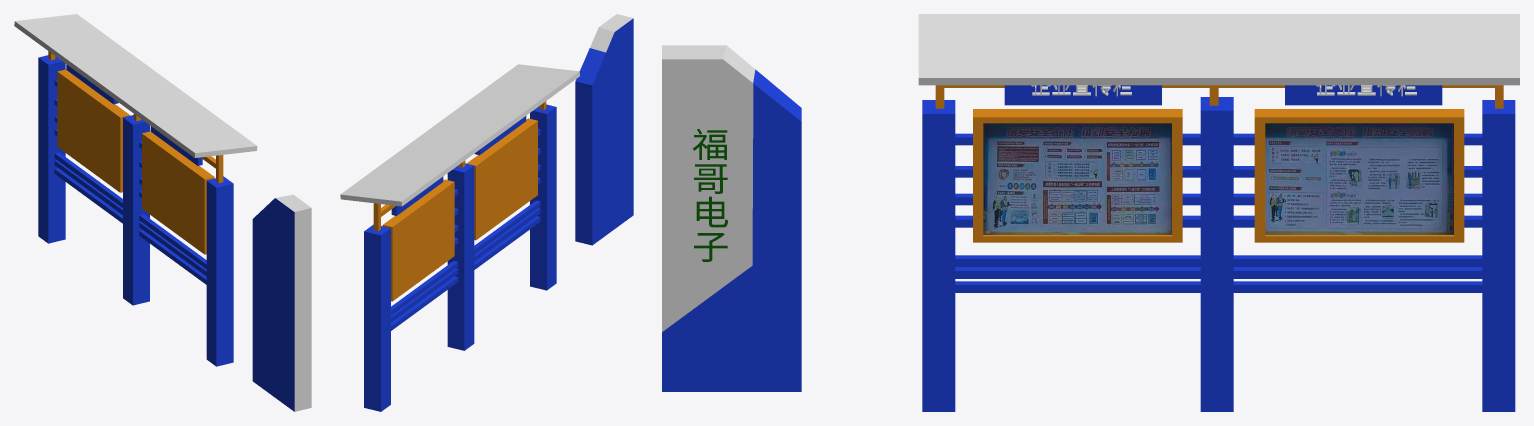
Rendered from 佈告欄.fbx.
3 views of the same model, side by side, from view 1: azimuth 30°, elevation 25°; view 2: azimuth 150°, elevation 25°; view 3: azimuth 270°, elevation 25° (orthographic). The views are drawn at different scales.
Parts seen in each view (by area): view 1: 立方体.445, 立方体.439, 立方体.443, 立方体.442, 立方体.424, 立方体.427, 立方体.425, 立方体.426, 立方体.430, 立方体.428, 立方体.429, 立方体.440 (+1 smaller); view 2: 立方体.445, 立方体.439, 立方体.443, 立方体.442, 立方体.427, 立方体.425, 立方体.424, 立方体.426, 立方体.430, 立方体.428, 立方体.429, 立方体.441 (+1 smaller); view 3: 立方体.445, 立方体.439, 立方体.443, 立方体.442, 立方体.424, 立方体.427, 立方体.426, 立方体.425, 立方体.428, 立方体.429, 立方体.430, 立方体.440 (+6 smaller).
Boxes of the visible parts, x1,y1,x2,y2 form: 立方体.445: (252,194,311,411); 立方体.439: (14,14,257,157); 立方体.443: (57,69,130,192); 立方体.442: (142,131,214,254); 立方体.424: (206,176,233,366); 立方体.427: (38,55,65,243); 立方体.425: (123,115,149,303); 立方体.426: (123,120,149,305); 立方体.430: (54,152,206,268); 立方体.428: (54,168,206,284); 立方体.429: (54,160,206,276); 立方体.440: (150,126,202,165); 立方体.445: (575,14,633,245); 立方体.439: (340,64,579,206); 立方体.443: (382,179,454,301); 立方体.442: (467,118,537,240); 立方体.427: (364,224,390,411); 立方体.425: (447,163,474,348); 立方体.424: (530,104,556,290); 立方体.426: (447,168,474,350); 立方体.430: (391,200,540,315); 立方体.428: (391,216,540,330); 立方体.429: (391,208,540,322); 立方体.441: (391,176,443,215); 立方体.445: (662,45,801,391); 立方体.439: (918,14,1519,85); 立方体.443: (1254,109,1464,242); 立方体.442: (973,109,1182,242); 立方体.424: (922,100,955,411); 立方体.427: (1482,100,1515,411); 立方体.426: (1200,114,1233,411); 立方体.425: (1200,97,1233,408); 立方体.428: (955,281,1482,292); 立方体.429: (955,267,1482,278); 立方体.430: (955,255,1482,266); 立方体.440: (1004,85,1161,105).
Size of the model in its own units: 76.57 by 256 by 544.
Materials: 5 (1 with a texture image).
